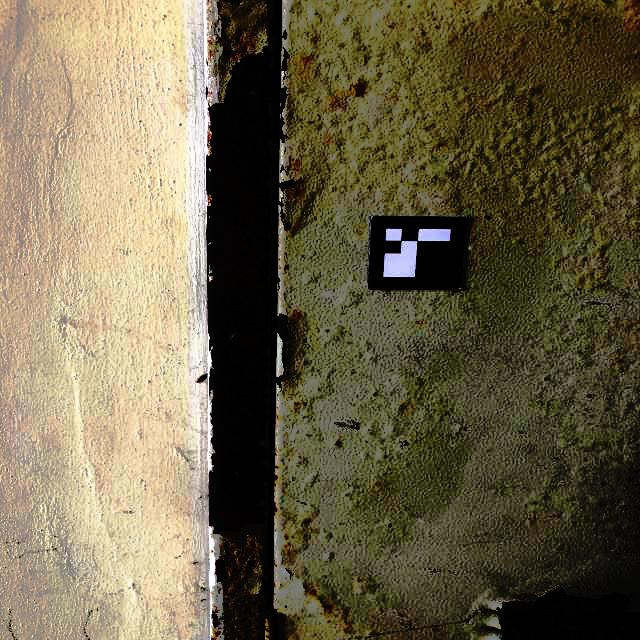Corrosion: (207, 46, 274, 535), (495, 585, 640, 640), (277, 313, 290, 388), (255, 564, 268, 601), (211, 603, 221, 640), (213, 559, 227, 583), (282, 48, 291, 80), (267, 12, 274, 47), (279, 117, 288, 144), (279, 180, 297, 193), (280, 86, 288, 115), (279, 198, 286, 227), (206, 40, 213, 67), (246, 559, 257, 570), (222, 47, 234, 57), (273, 502, 279, 518), (264, 621, 272, 633), (205, 85, 210, 100), (282, 29, 288, 41), (277, 277, 282, 291), (256, 604, 263, 613), (224, 0, 243, 3), (280, 164, 286, 173), (274, 554, 277, 566), (229, 539, 234, 543), (273, 583, 276, 589), (237, 551, 241, 555)
